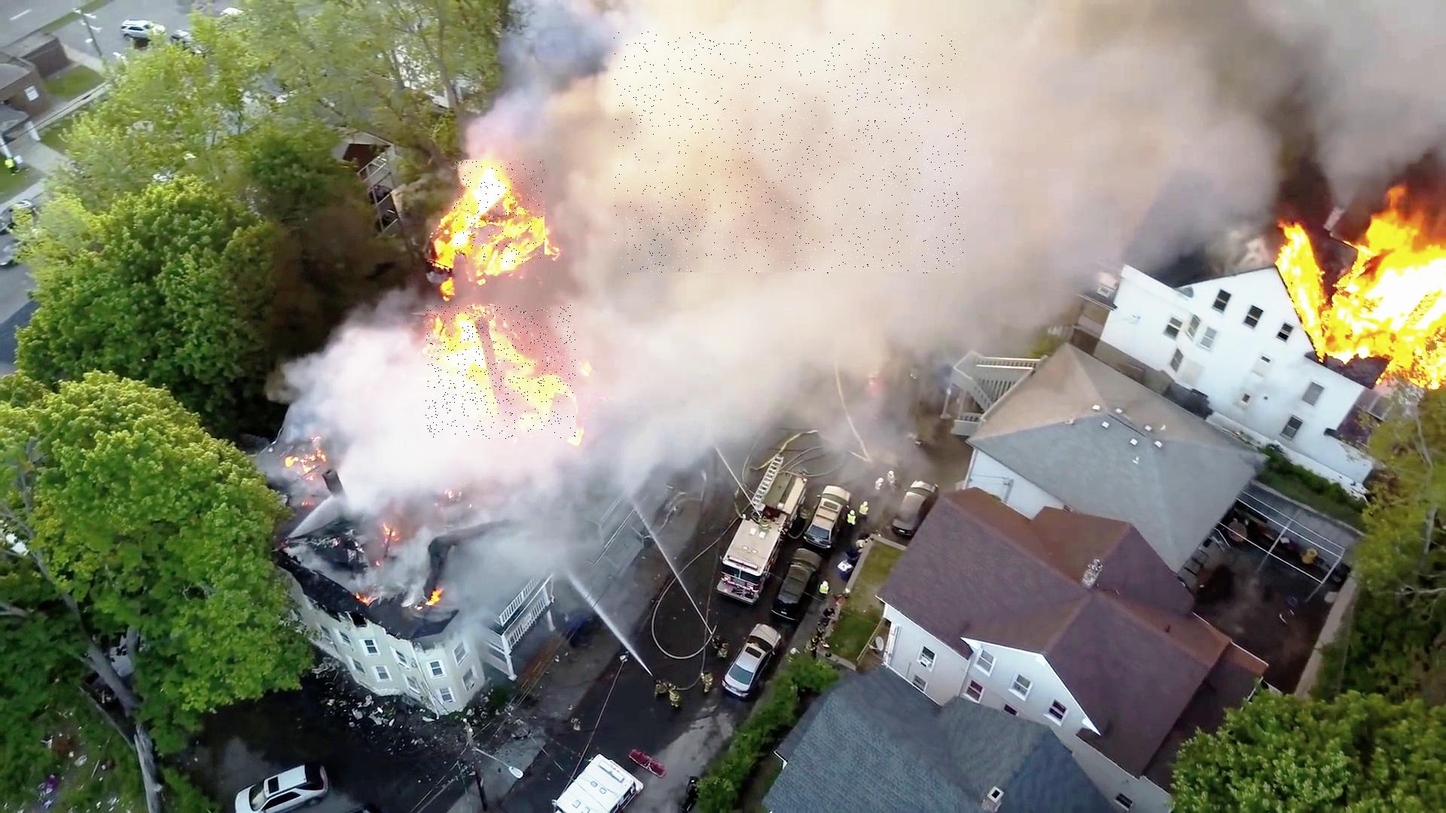fire: (426, 306, 576, 440), (454, 160, 545, 267)
smoke: (614, 32, 966, 275)
